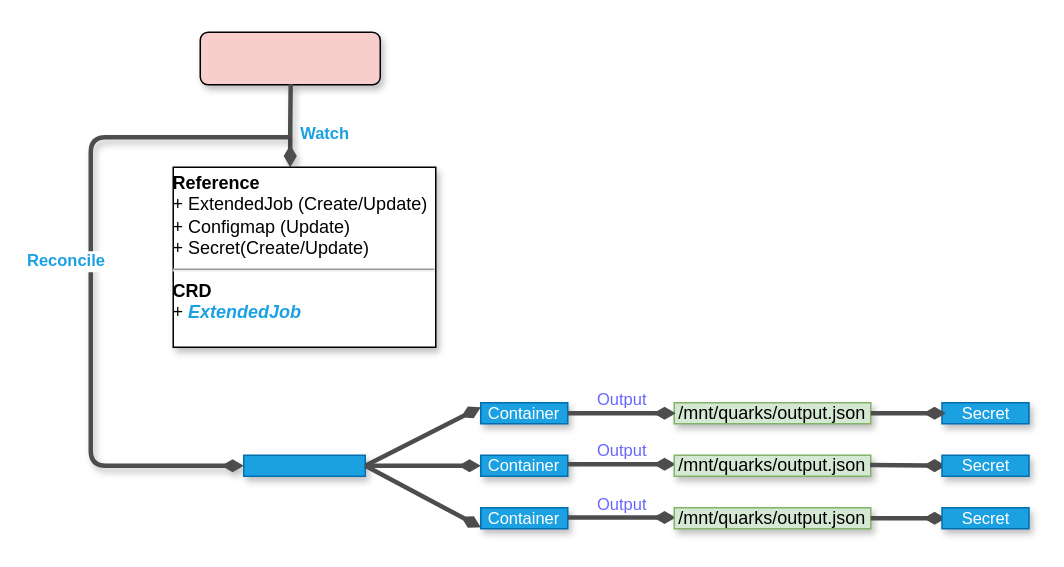
This 1064x567 diagram has some shape labels left out. The shapes that lost their labels are listed below. From the top down, each one's centre as x and y in pixels, then its label:
point (291, 60): Errand Controller
point (305, 467): JOBS
